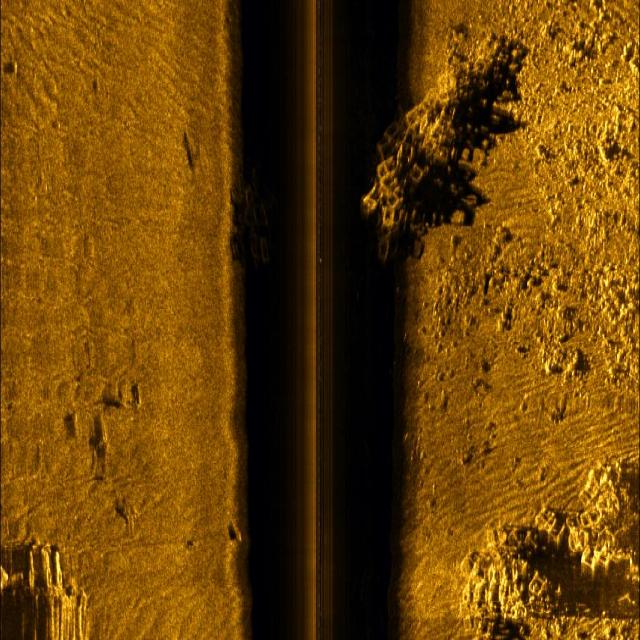artificial reef: (354, 49, 506, 272), (463, 452, 640, 640), (224, 173, 281, 267)
